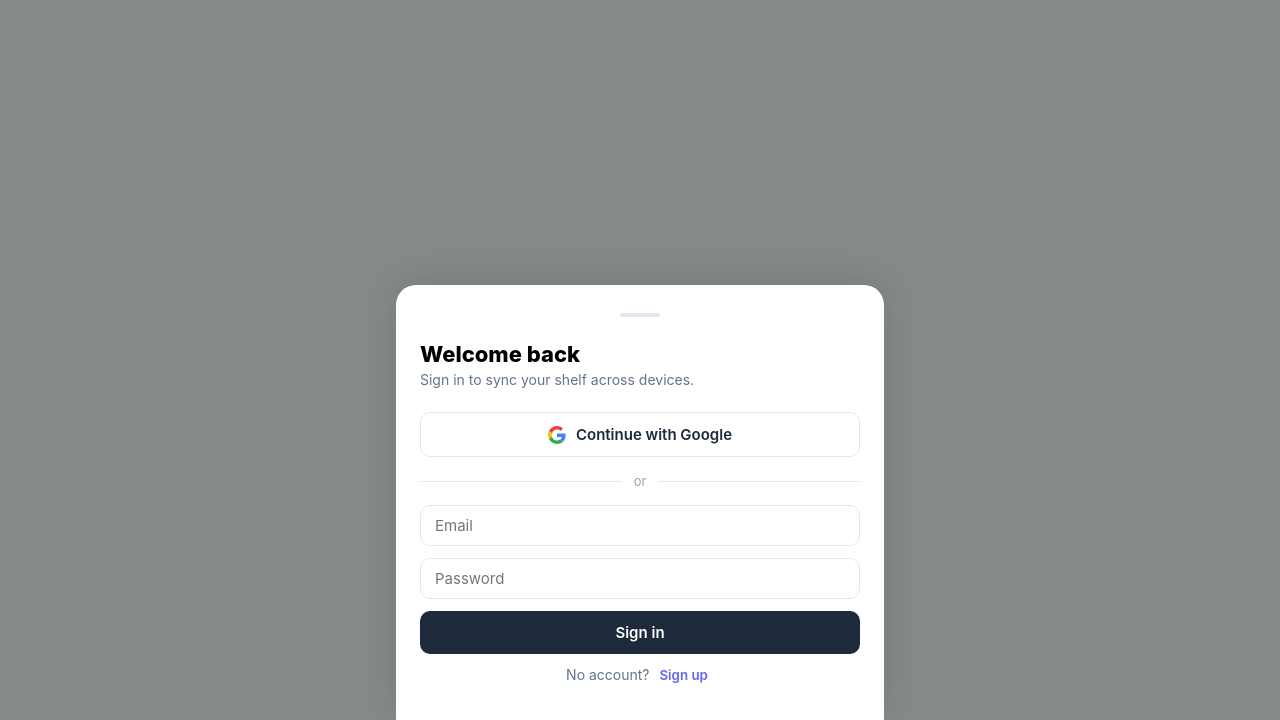
LoginModal — sign-up mode › shows error message when signUp returns an error
Click the button "Sign up": click(684, 675) [653, 666, 714, 684]
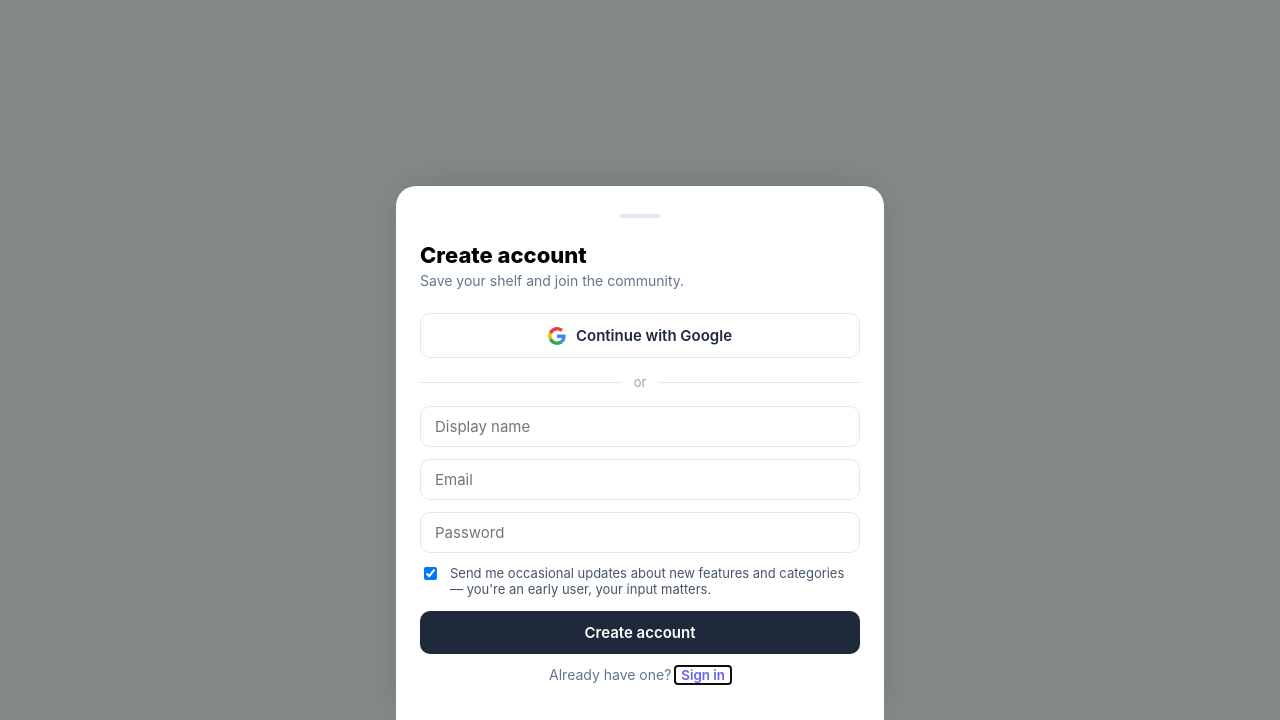
In the field with placeholder "Display name": (640, 426) [420, 406, 860, 447], type "Diego"
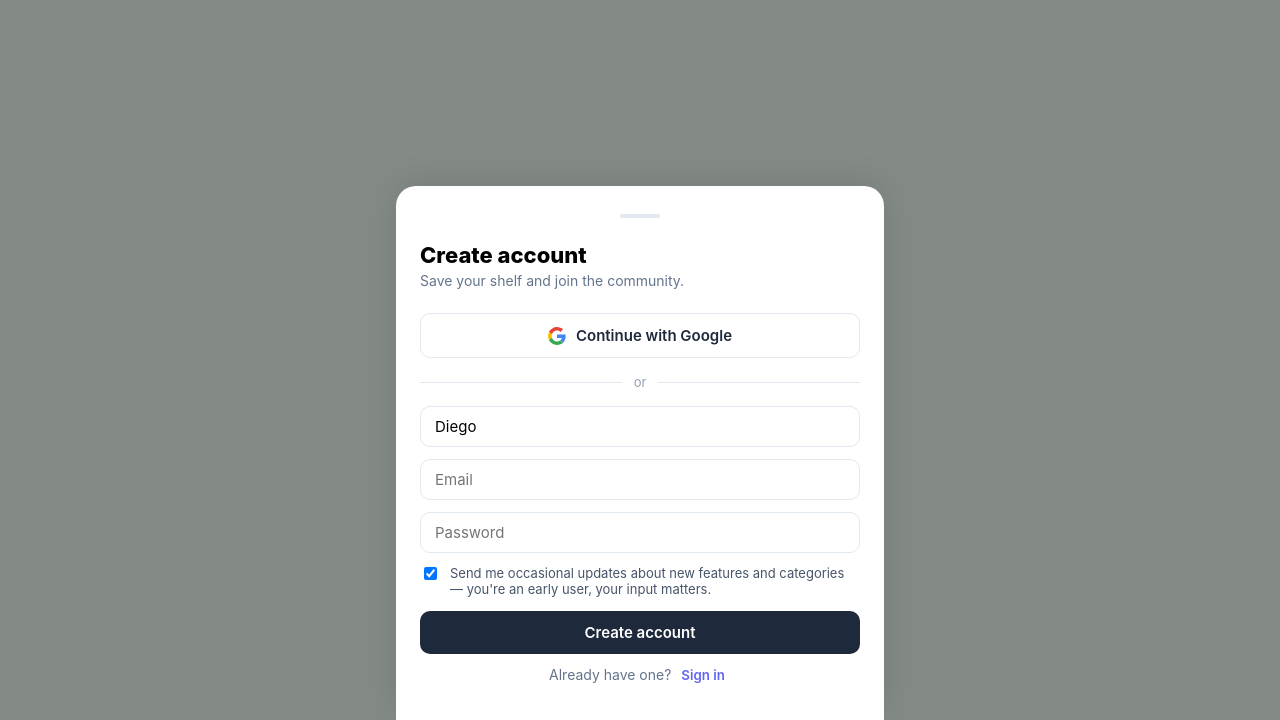
In the field with placeholder "Email": (640, 480) [420, 459, 860, 500], type "dupe@x.com"
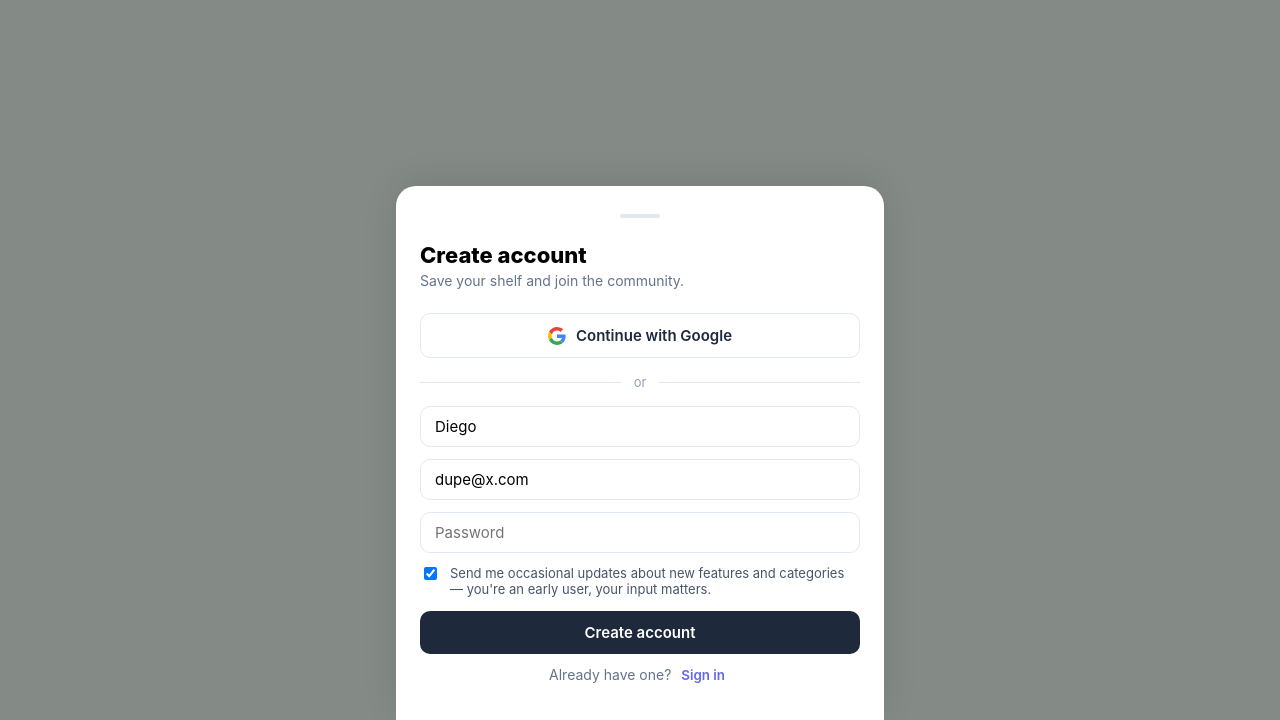
In the password field with placeholder "Password": (640, 532) [420, 512, 860, 553], type "abc12345"
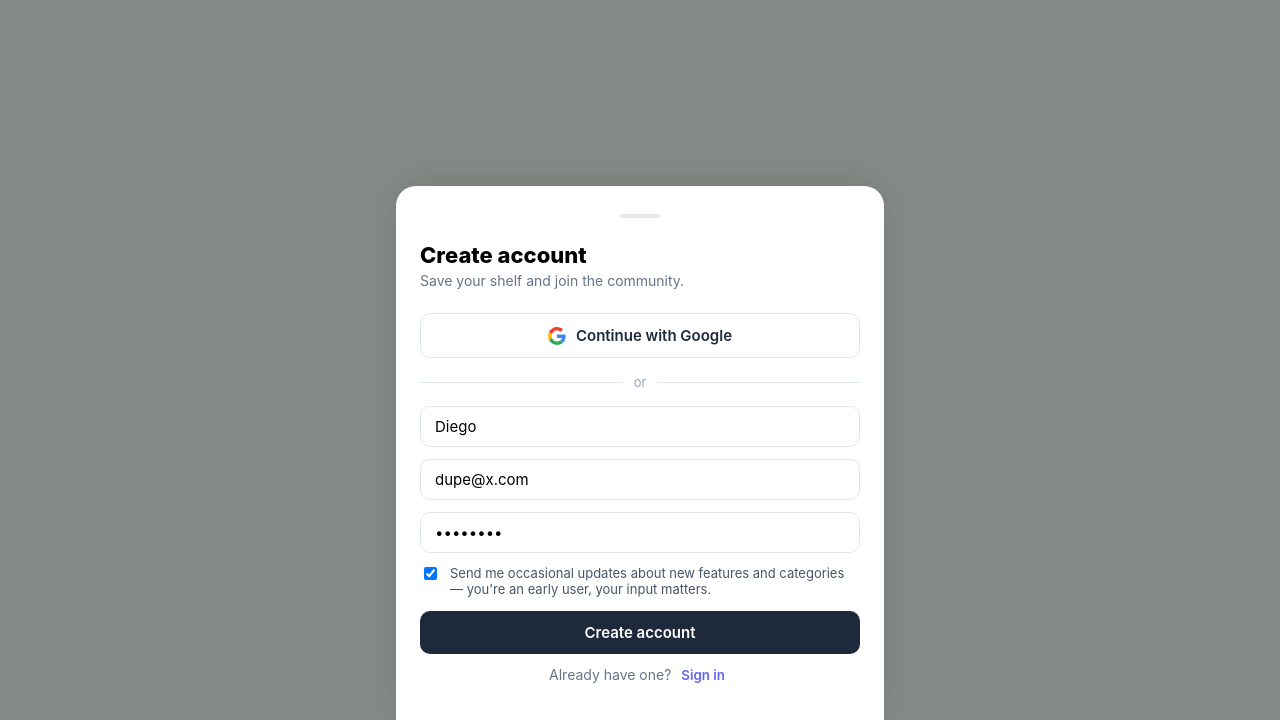
Click the button "Create account": click(640, 632) [420, 611, 860, 654]
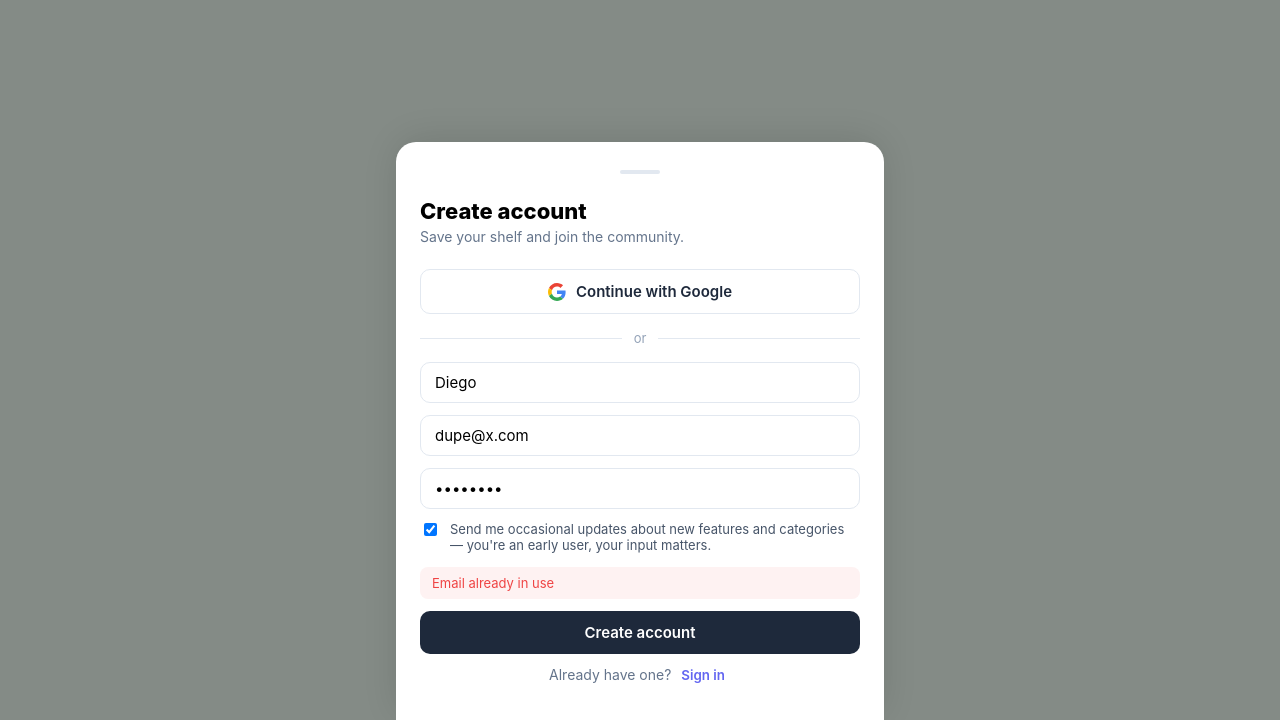
Now the text "Email already in use" is shown, box [420, 567, 860, 599]
